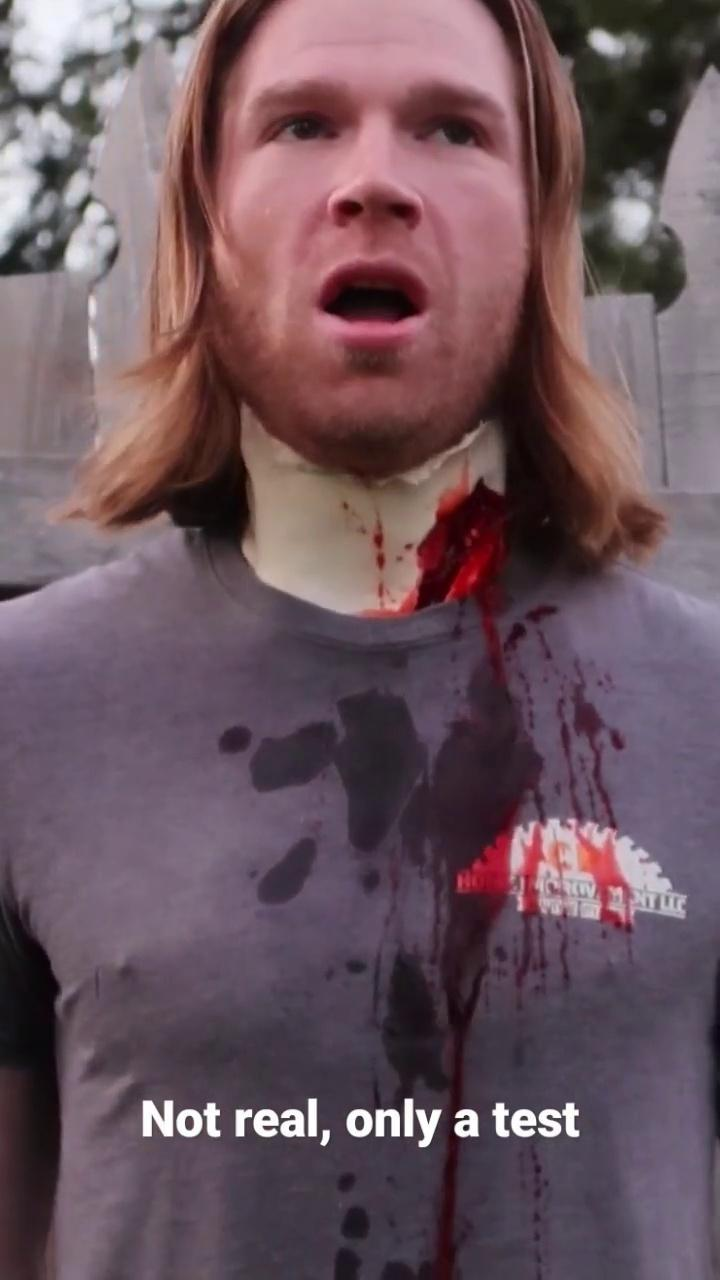Fire: (327, 480, 684, 1122), (432, 1135, 460, 1280), (528, 1146, 549, 1280)
